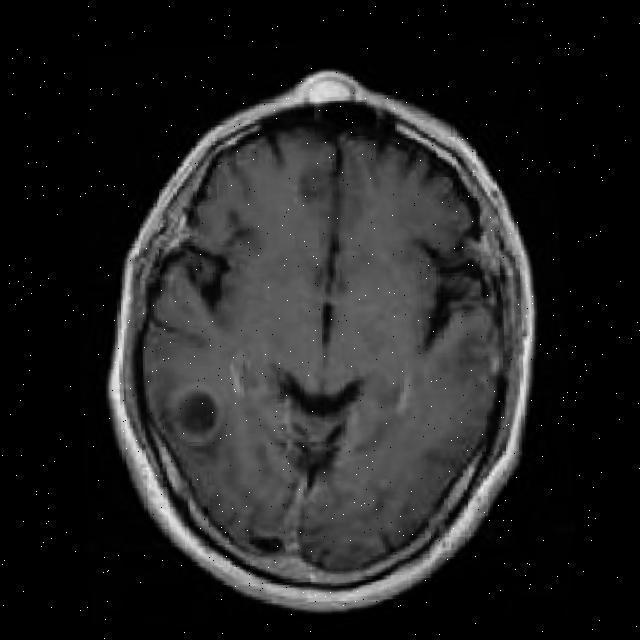LMCI: (167, 370, 288, 534)
